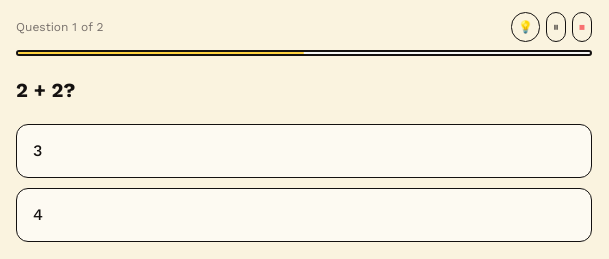
Test: QuizQuestion › uses a hint to disable the eliminated choices
The image size is (609, 259).
Click the button named "Get a hint" at (526, 27), box x1=511 y1=12 x2=540 y2=42
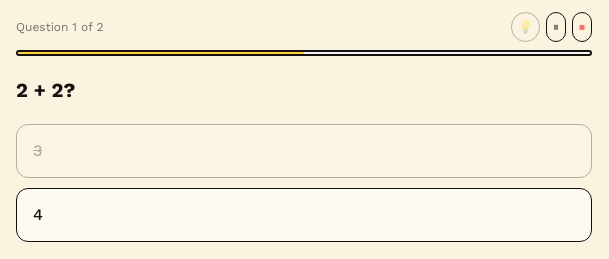
Check: the button "4" is enabled, box x1=16 y1=188 x2=592 y2=242
Check: the button "3" is disabled, box x1=16 y1=124 x2=592 y2=178
